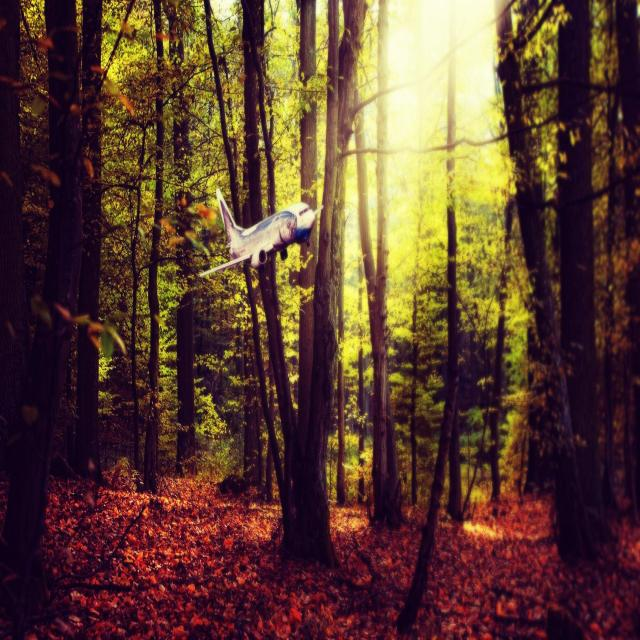airplane: (197, 187, 324, 279)
